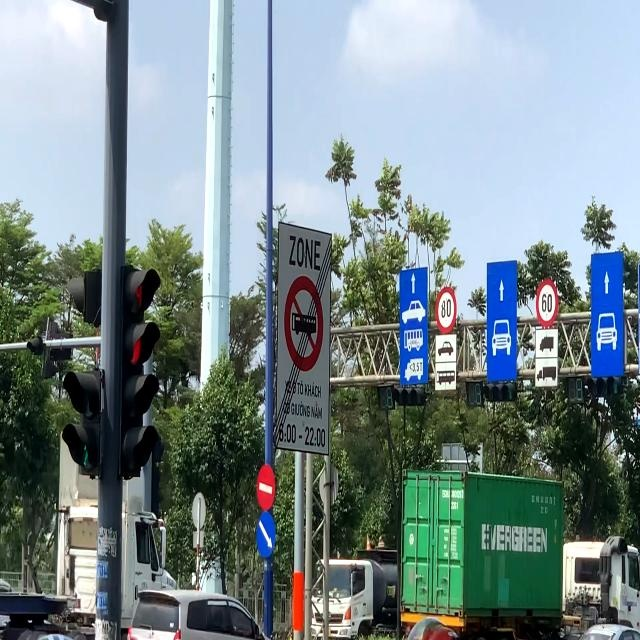bien_hieu_lenh: (536, 278, 558, 328), (435, 286, 457, 335), (256, 510, 276, 559), (256, 464, 276, 511)
